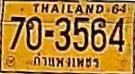0: (26, 16, 41, 49)
3: (54, 17, 70, 50)
4: (108, 17, 124, 51)
5: (73, 16, 88, 50)
6: (90, 17, 106, 51)
7: (10, 16, 25, 49)
KPT: (30, 52, 102, 69)
